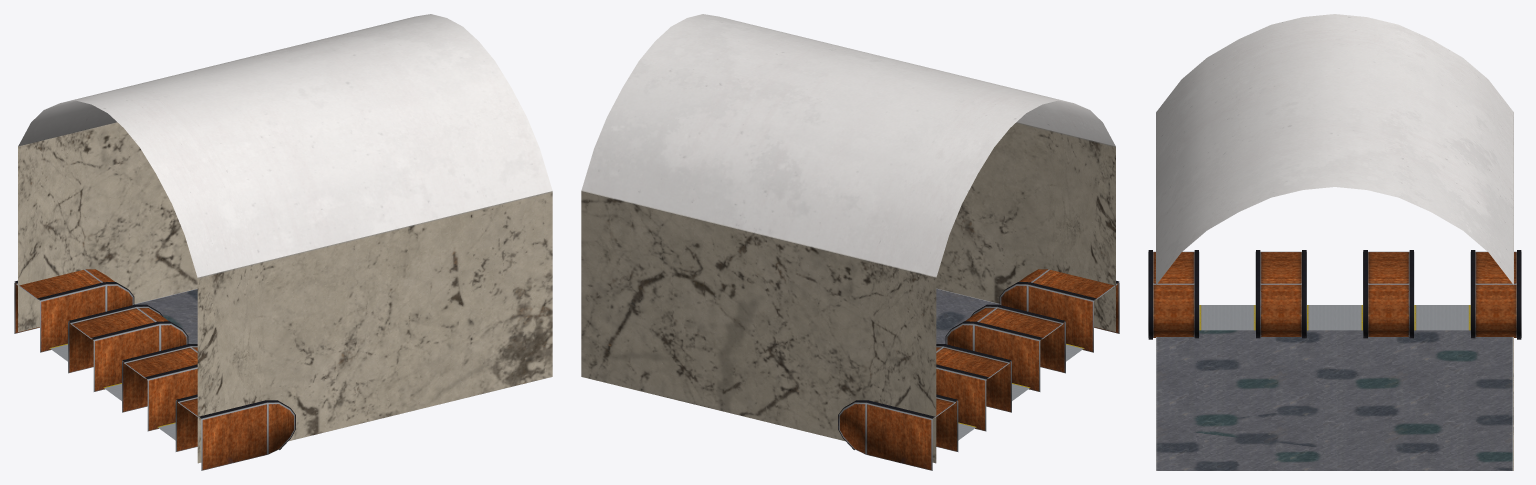
File: interchange escalator bottom part.fbx
3 views of the same model, side by side, from view 1: azimuth 30°, elevation 25°; view 2: azimuth 150°, elevation 25°; view 3: azimuth 270°, elevation 25° (orthographic).
Visible parts, largest first — view 1: interchange escalator bottom part; view 2: interchange escalator bottom part; view 3: interchange escalator bottom part.
Boxes of the visible parts, bbox=[...] form: interchange escalator bottom part: bbox=[14, 14, 552, 470]; interchange escalator bottom part: bbox=[581, 14, 1119, 470]; interchange escalator bottom part: bbox=[1148, 14, 1521, 470].
Size of the model in its own units: 730 by 800 by 623.
